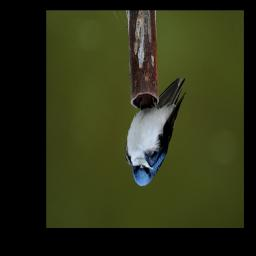Swallow: (125, 76, 187, 187)
